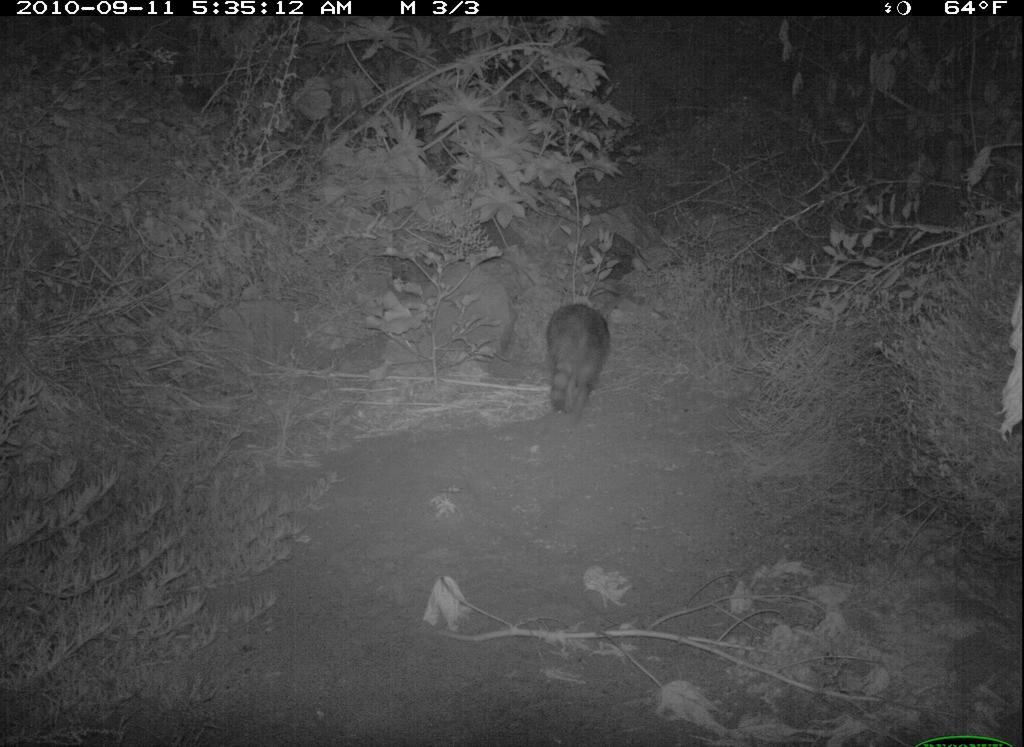raccoon: (533, 296, 620, 433)
